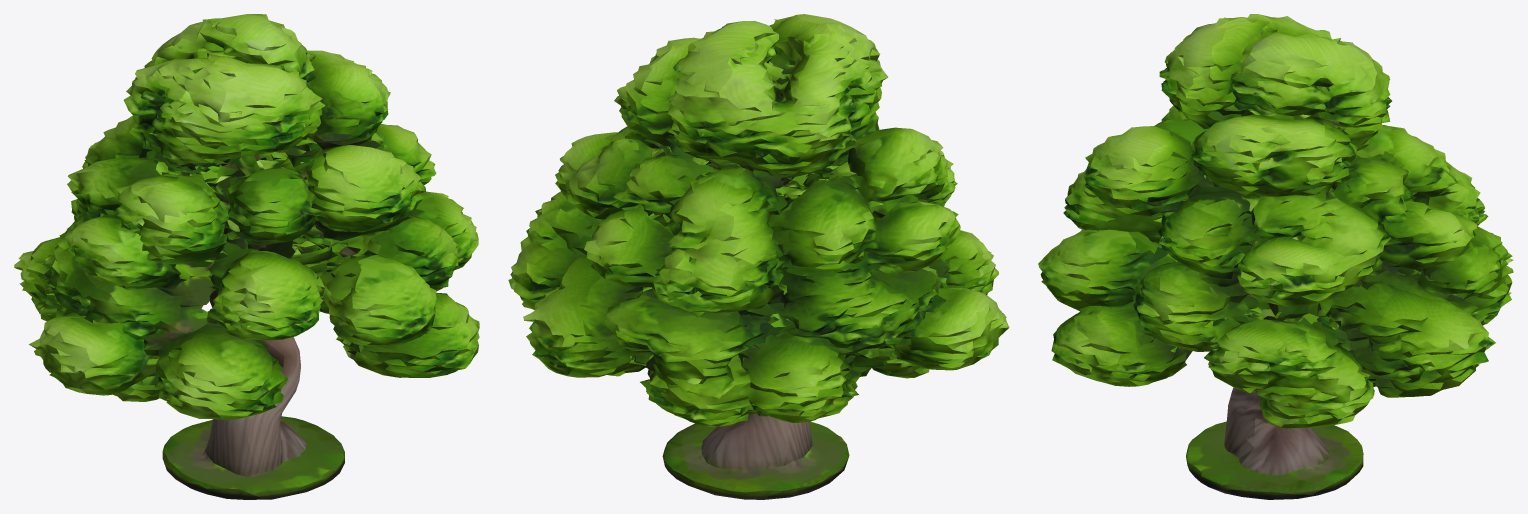
The model's file is tree.fbx.
3 views of the same model, side by side, from view 1: azimuth 30°, elevation 25°; view 2: azimuth 150°, elevation 25°; view 3: azimuth 270°, elevation 25° (orthographic). The views are drawn at different scales.
Parts seen in each view (by area): view 1: tmpv9e9u9iv.ply; view 2: tmpv9e9u9iv.ply; view 3: tmpv9e9u9iv.ply.
Part boxes in pixels (bbox=[...]): tmpv9e9u9iv.ply: bbox=[14, 14, 479, 499]; tmpv9e9u9iv.ply: bbox=[508, 14, 1009, 499]; tmpv9e9u9iv.ply: bbox=[1038, 14, 1513, 499].
Bounding box in the file's own units: 200 × 191 × 192.
1 material, 1 textured.
